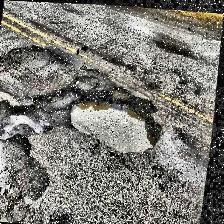pothole: (66, 80, 168, 156), (1, 80, 72, 144)
